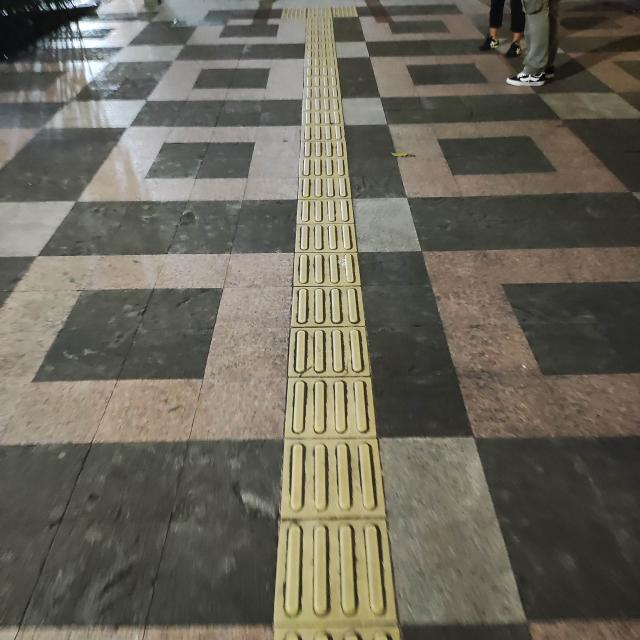lurus: (269, 7, 407, 640)
